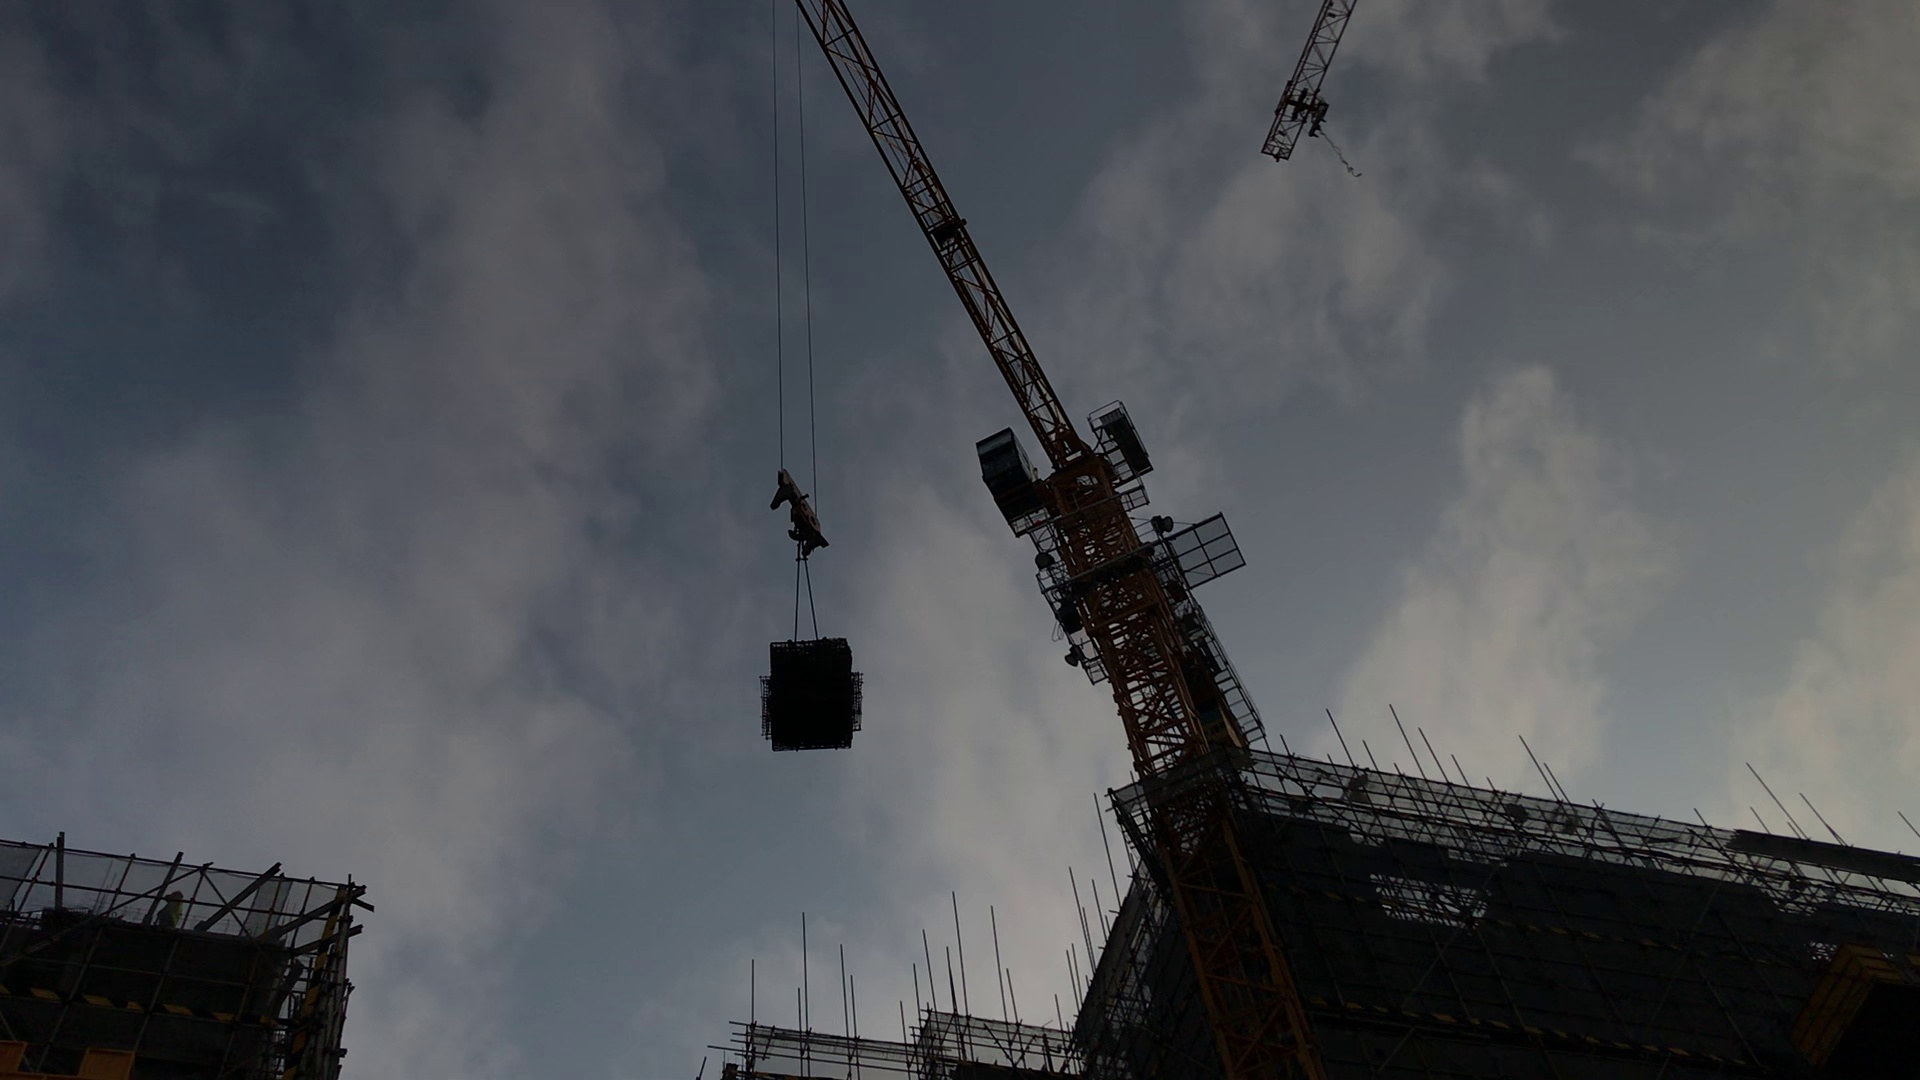hook: (767, 471, 829, 560)
